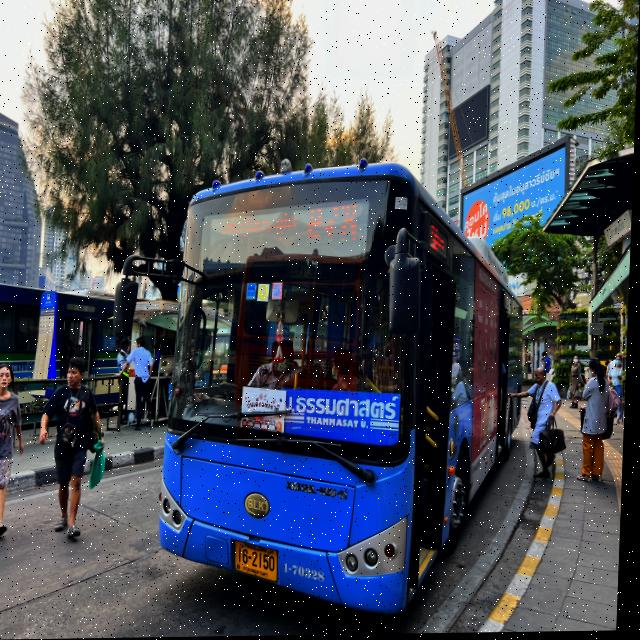BMTA-bus: (157, 162, 522, 622)
Bus-Line-Number: (303, 202, 368, 255)
Destination-Sign-Normal: (279, 384, 406, 457)
